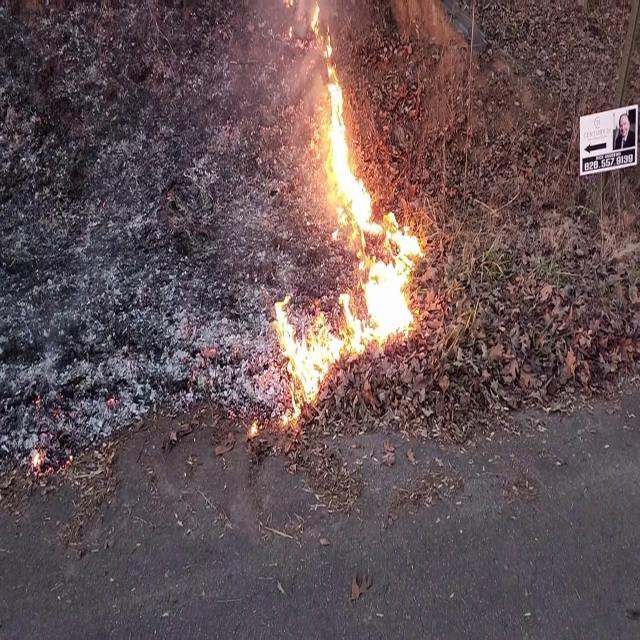Fire: (268, 235, 430, 435), (308, 3, 383, 242)
